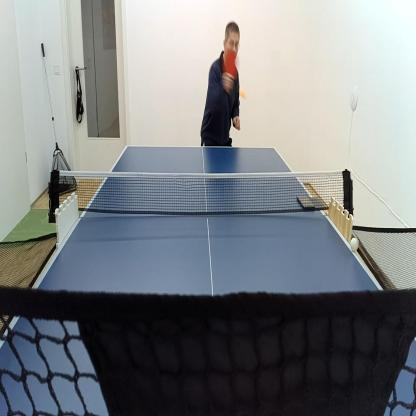Ball: (350, 236, 360, 254), (239, 87, 247, 101)
